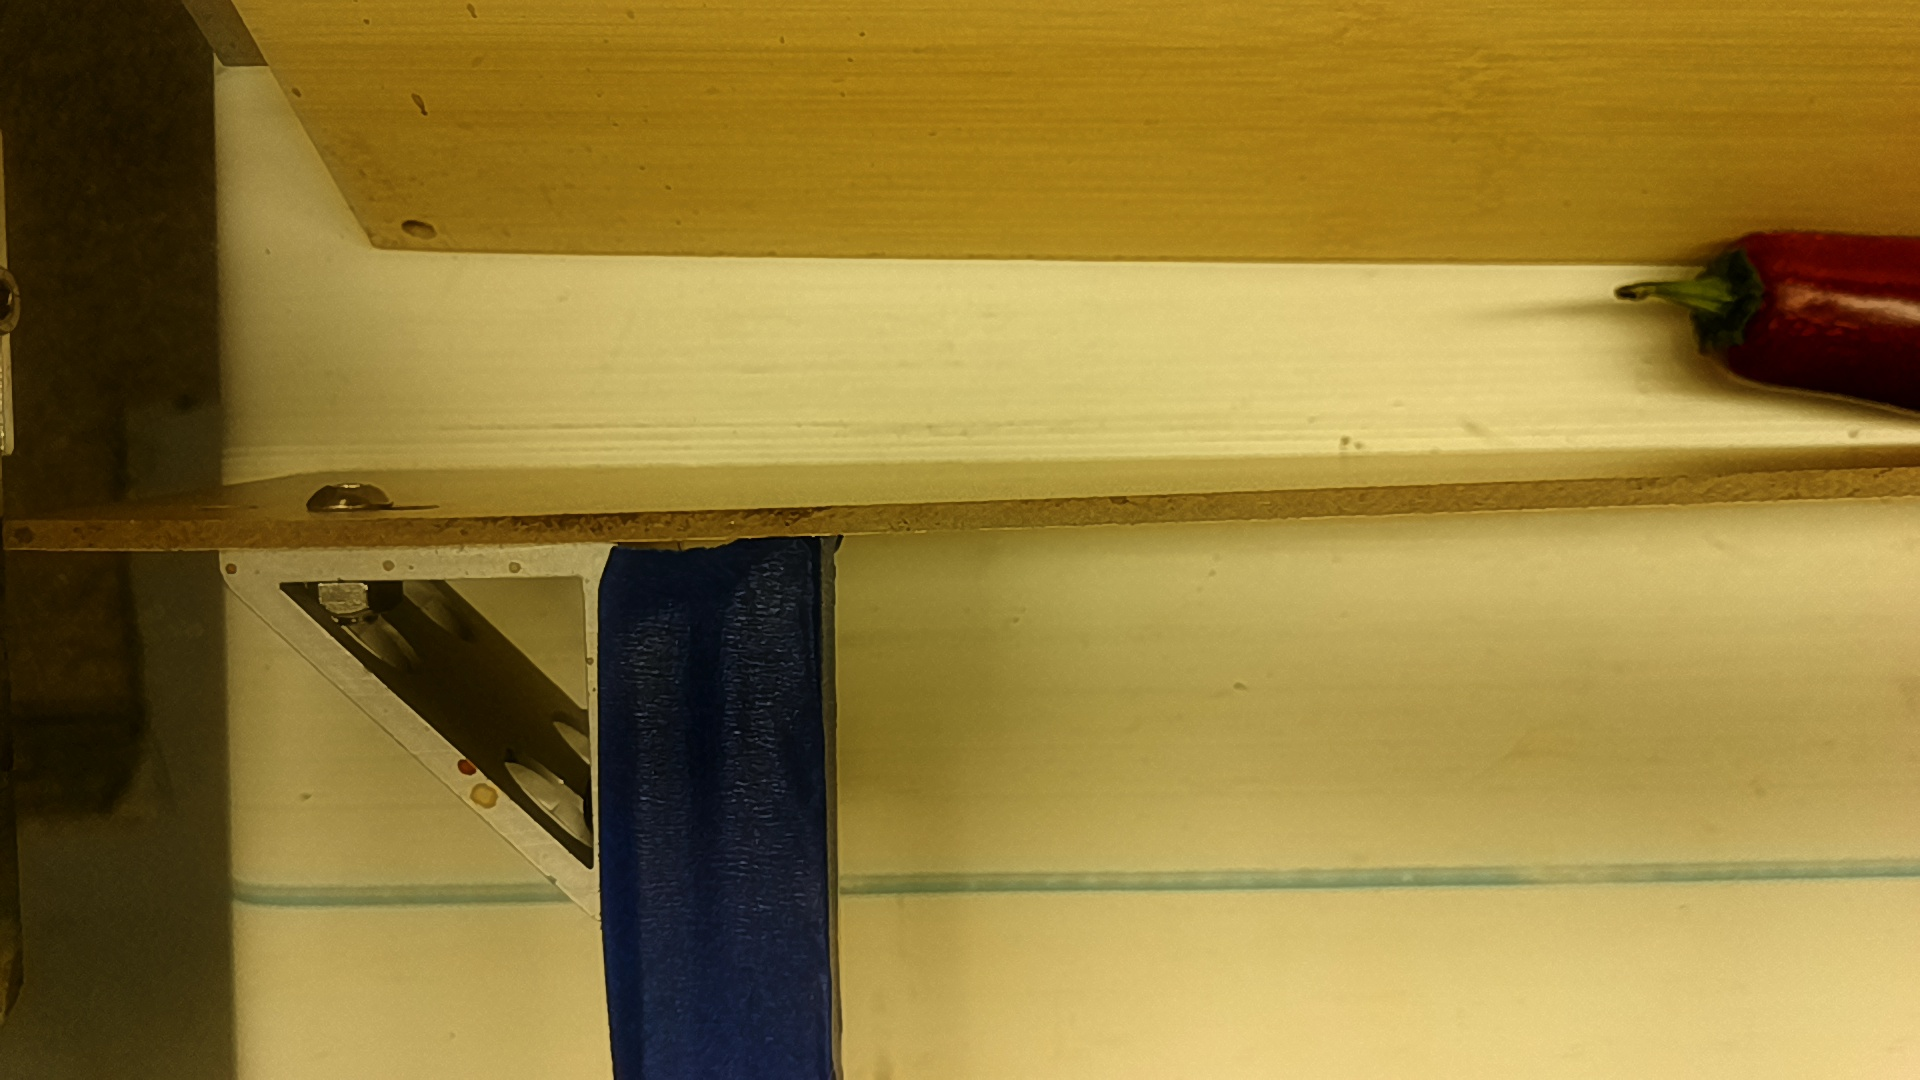Cut Point: (1687, 225, 1788, 392)
